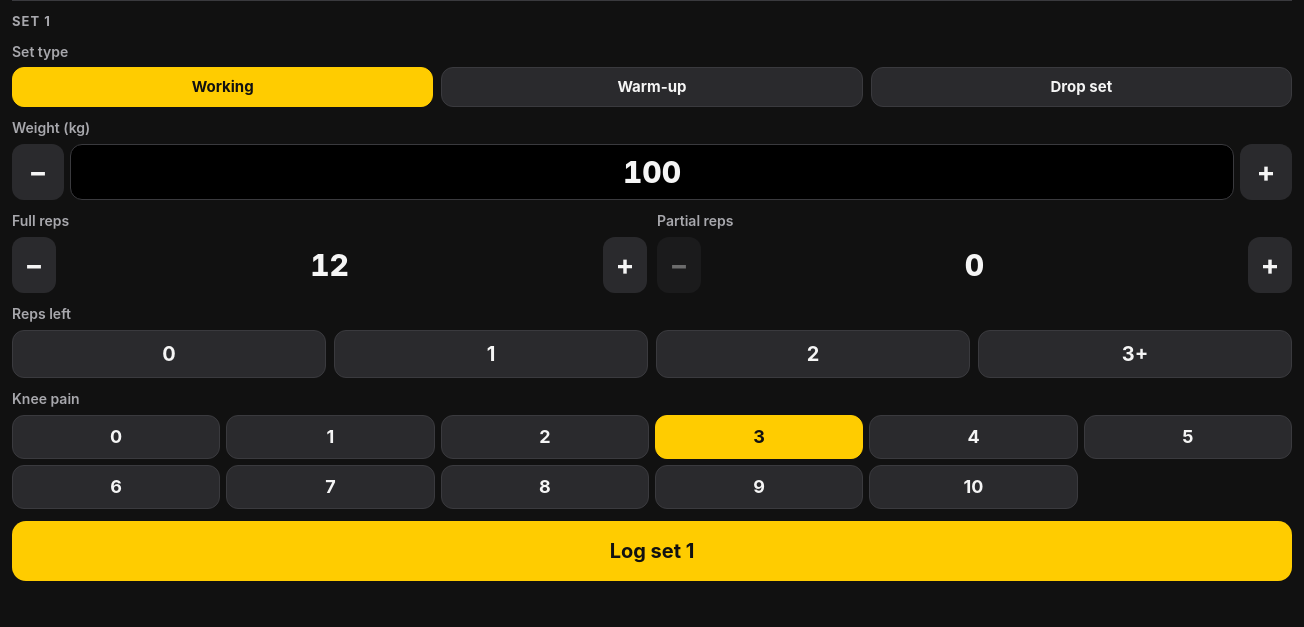
Scenario: SetRow › requires reps left to be picked
The image size is (1304, 627).
Click the button "Log set 1".
click(652, 551)  # box top-left (12, 521), bottom-right (1292, 581)
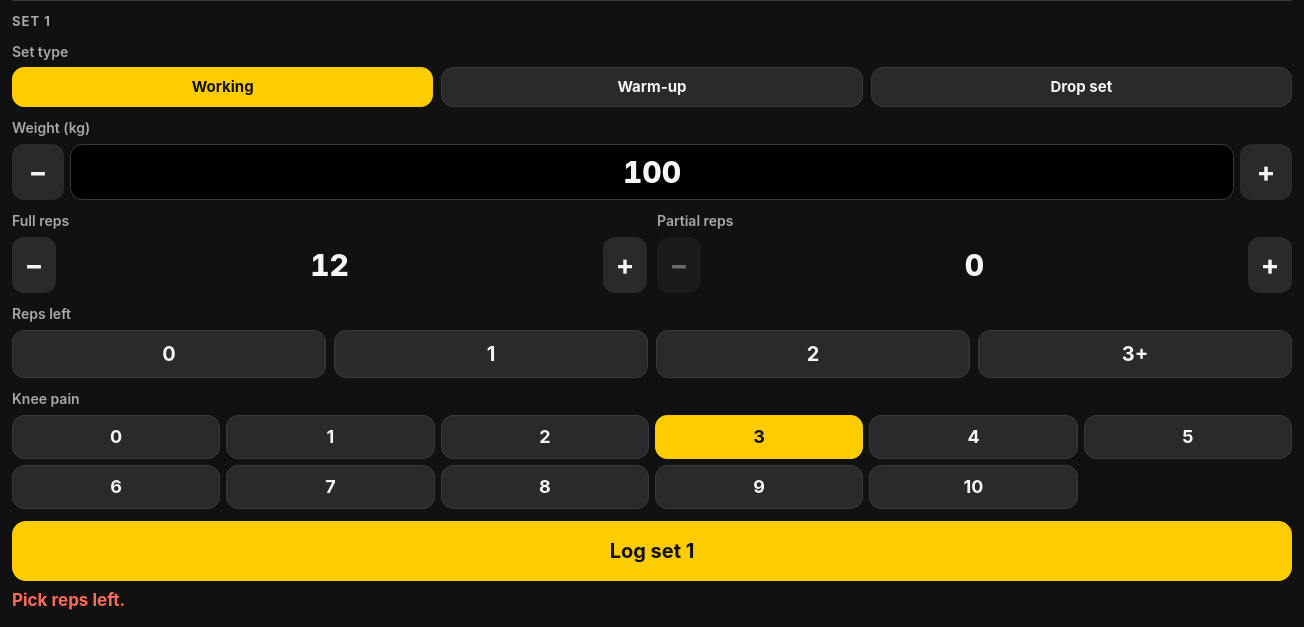
Expected: the message reads "Pick reps left.", top-left (12, 590), bottom-right (125, 610)
